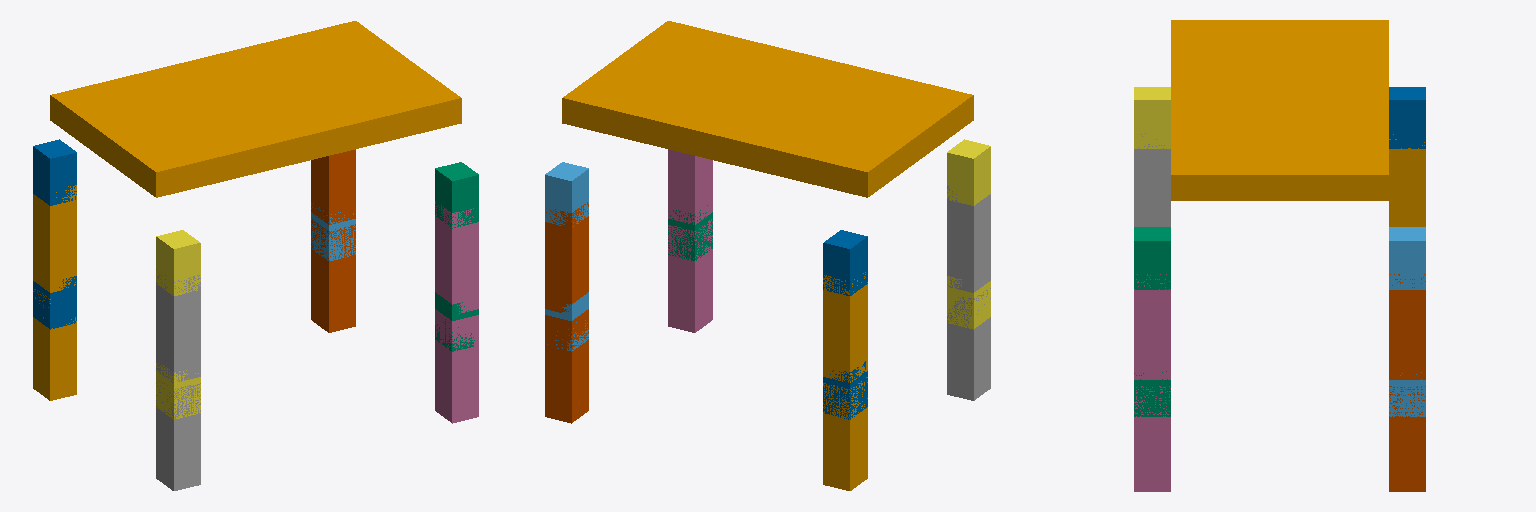
URDF robot description (ker):
<?xml version='1.0'?>
  <robot name="ker">
    <link name="body">
        <inertial>
            <origin xyz="0 0 0.15" rpy="0 0 0"/>
            <mass value="1"/>
            <inertia ixx="1" ixy="0" ixz="0" iyy="1" iyz="0" izz="1" />
        </inertial>

        <collision>
          <origin xyz="0 0 0.15" rpy="0 0 0"/>
          <geometry>
            <box size="0.25 0.15 0.02"/>
          </geometry>
        </collision>

        <visual>
          <origin xyz="0 0 0.15" rpy="0 0 0"/>
          <geometry>
            <box size = "0.25 0.15 0.02"/>
          </geometry>
        </visual>
    </link>

    <link name="motor_1">
        <inertial>
            <origin xyz="0 0 -0.0085" rpy="0 0 0"/>
            <mass value="1"/>
            <inertia ixx="1" ixy="0" ixz="0" iyy="1" iyz="0" izz="1" />
        </inertial>

        <collision>
          <origin xyz="0 0 -0.0085" rpy="0 0 0"/>
          <geometry>
            <box size="0.022 0.025 0.037"/>
          </geometry>
        </collision>

        <visual>
          <origin xyz="0 0 -0.0085" rpy="0 0 0"/>
          <geometry>
            <box size = "0.022 0.025 0.037"/>
          </geometry>
        </visual>
    </link>

    <link name="motor_2">
        <inertial>
            <origin xyz="0 0 -0.0085" rpy="0 0 0"/>
            <mass value="1"/>
            <inertia ixx="1" ixy="0" ixz="0" iyy="1" iyz="0" izz="1" />
        </inertial>

        <collision>
          <origin xyz="0 0 -0.0085" rpy="0 0 0"/>
          <geometry>
            <box size="0.022 0.025 0.037"/>
          </geometry>
        </collision>

        <visual>
          <origin xyz="0 0 -0.0085" rpy="0 0 0"/>
          <geometry>
            <box size = "0.022 0.025 0.037"/>
          </geometry>
        </visual>
    </link>

    <link name="motor_3">
        <inertial>
            <origin xyz="-0 0 -0.0085" rpy="0 0 0"/>
            <mass value="1"/>
            <inertia ixx="1" ixy="0" ixz="0" iyy="1" iyz="0" izz="1" />
        </inertial>

        <collision>
          <origin xyz="0 0 -0.0085" rpy="0 0 0"/>
          <geometry>
            <box size="0.022 0.025 0.037"/>
          </geometry>
        </collision>

        <visual>
          <origin xyz="0 0 -0.0085" rpy="0 0 0"/>
          <geometry>
            <box size = "0.022 0.025 0.037"/>
          </geometry>
        </visual>
    </link>

    <link name="motor_4">
        <inertial>
            <origin xyz="0 0 -0.0085" rpy="0 0 0"/>
            <mass value="1"/>
            <inertia ixx="1" ixy="0" ixz="0" iyy="1" iyz="0" izz="1" />
        </inertial>

        <collision>
          <origin xyz="0 0 -0.0085" rpy="0 0 0"/>
          <geometry>
            <box size="0.022 0.025 0.037"/>
          </geometry>
        </collision>

        <visual>
          <origin xyz="0 0 -0.0085" rpy="0 0 0"/>
          <geometry>
            <box size = "0.022 0.025 0.037"/>
          </geometry>
        </visual>
    </link>

    <joint name="motor_joint_1" type="fixed">
        <origin xyz="0.114 0.0875 0.10" rpy="0 0 0"/>
        <parent link="body"/>
        <child link="motor_1"/>
    </joint>

    <joint name="motor_joint_2" type="fixed">
        <origin xyz="0.114 -0.0875 0.10" rpy="0 0 0"/>
        <parent link="body"/>
        <child link="motor_2"/>
    </joint>
    <joint name="motor_joint_3" type="fixed">
        <origin xyz="-0.114 -0.0875 0.10" rpy="0 0 0"/>
        <parent link="body"/>
        <child link="motor_3"/>
    </joint>
    <joint name="motor_joint_4" type="fixed">
        <origin xyz="-0.114 0.0875 0.10" rpy="0 0 0"/>
        <parent link="body"/>
        <child link="motor_4"/>
    </joint>

    <link name="humerus_1">
        <inertial>
            <origin xyz="0 0 -0.1" rpy="0 0 0"/>
            <mass value="1"/>
            <inertia ixx="1" ixy="0" ixz="0" iyy="1" iyz="0" izz="1" />
        </inertial>

        <collision>
          <origin xyz="0 0 -0.1" rpy="0 0 0"/>
          <geometry>
            <box size="0.022 0.025 0.08"/>
          </geometry>
        </collision>

        <visual>
          <origin xyz="0 0 -0.1" rpy="0 0 0"/>
          <geometry>
            <box size = "0.022 0.025 0.08"/>
          </geometry>
        </visual>
    </link>

    <link name="humerus_2">
        <inertial>
            <origin xyz="0 0 -0.1" rpy="0 0 0"/>
            <mass value="1"/>
            <inertia ixx="1" ixy="0" ixz="0" iyy="1" iyz="0" izz="1" />
        </inertial>

        <collision>
          <origin xyz="0 0 -0.1" rpy="0 0 0"/>
          <geometry>
            <box size="0.022 0.025 0.08"/>
          </geometry>
        </collision>

        <visual>
          <origin xyz="0 0 -0.1" rpy="0 0 0"/>
          <geometry>
            <box size = "0.022 0.025 0.08"/>
          </geometry>
        </visual>
    </link>

    <link name="femur_2">
        <inertial>
            <origin xyz="0 0 -0.1" rpy="0 0 0"/>
            <mass value="1"/>
            <inertia ixx="1" ixy="0" ixz="0" iyy="1" iyz="0" izz="1" />
        </inertial>

        <collision>
          <origin xyz="0 0 -0.1" rpy="0 0 0"/>
          <geometry>
            <box size="0.022 0.025 0.08"/>
          </geometry>
        </collision>

        <visual>
          <origin xyz="0 0 -0.1" rpy="0 0 0"/>
          <geometry>
            <box size = "0.022 0.025 0.08"/>
          </geometry>
        </visual>
    </link>

    <link name="femur_1">
        <inertial>
            <origin xyz="0 0 -0.1" rpy="0 0 0"/>
            <mass value="1"/>
            <inertia ixx="1" ixy="0" ixz="0" iyy="1" iyz="0" izz="1" />
        </inertial>

        <collision>
          <origin xyz="0 0 -0.1" rpy="0 0 0"/>
          <geometry>
            <box size="0.022 0.025 0.08"/>
          </geometry>
        </collision>

        <visual>
          <origin xyz="0 0 -0.1" rpy="0 0 0"/>
          <geometry>
            <box size = "0.022 0.025 0.08"/>
          </geometry>
        </visual>
    </link>

    <joint name="humerus_joint_1" type="revolute">
        <origin xyz="0 0 0.045" rpy="0 0 0"/>
        <parent link="motor_1"/>
        <child link="humerus_1"/>
        <axis xyz="0 1 0"/>
        <dynamics damping="0.1" friction="0.1"/>
        <limit effort="3.0" velocity="3.0" lower="0.0" upper="3.14"/>
    </joint>

    <joint name="humerus_joint_2" type="revolute">
        <origin xyz="0 0 0.045" rpy="0 0 0"/>
        <parent link="motor_2"/>
        <child link="humerus_2"/>
        <axis xyz="0 1 0"/>
        <dynamics damping="0.1" friction="0.1"/>
        <limit effort="3.0" velocity="3.0" lower="0.0" upper="3.14"/>
    </joint>

    <joint name="femur_joint_2" type="revolute">
        <origin xyz="0 0 0.045" rpy="0 0 0"/>
        <parent link="motor_3"/>
        <child link="femur_2"/>
        <axis xyz="0 1 0"/>
        <dynamics damping="0.1" friction="0.1"/>
        <limit effort="3.0" velocity="3.0" lower="0.0" upper="3.14"/>
    </joint>

    <joint name="femur_joint_1" type="revolute">
        <origin xyz="0 0 0.045" rpy="0 0 0"/>
        <parent link="motor_4"/>
        <child link="femur_1"/>
        <axis xyz="0 1 0"/>
        <dynamics damping="0.1" friction="0.1"/>
        <limit effort="3.0" velocity="3.0" lower="0.0" upper="3.14"/>
    </joint>

    <link name="motor_1b">
        <inertial>
            <origin xyz="0 0 0" rpy="0 0 0"/>
            <mass value="1"/>
            <inertia ixx="1" ixy="0" ixz="0" iyy="1" iyz="0" izz="1" />
        </inertial>

        <collision>
          <origin xyz="0 0 0" rpy="0 0 0"/>
          <geometry>
            <box size="0.022 0.025 0.037"/>
          </geometry>
        </collision>

        <visual>
          <origin xyz="0 0 0" rpy="0 0 0"/>
          <geometry>
            <box size = "0.022 0.025 0.037"/>
          </geometry>
        </visual>      
    </link>

    <link name="motor_2b">
           <inertial>
            <origin xyz="0 0 0" rpy="0 0 0"/>
            <mass value="1"/>
            <inertia ixx="1" ixy="0" ixz="0" iyy="1" iyz="0" izz="1" />
        </inertial>

        <collision>
          <origin xyz="0 0 0" rpy="0 0 0"/>
          <geometry>
            <box size="0.022 0.025 0.037"/>
          </geometry>
        </collision>

        <visual>
          <origin xyz="0 0 0" rpy="0 0 0"/>
          <geometry>
            <box size = "0.022 0.025 0.037"/>
          </geometry>
        </visual>     
    </link>

    <link name="motor_3b">
        <inertial>
            <origin xyz="0 0 0" rpy="0 0 0"/>
            <mass value="1"/>
            <inertia ixx="1" ixy="0" ixz="0" iyy="1" iyz="0" izz="1" />
        </inertial>

        <collision>
          <origin xyz="0 0 0" rpy="0 0 0"/>
          <geometry>
            <box size="0.022 0.025 0.037"/>
          </geometry>
        </collision>

        <visual>
          <origin xyz="0 0 0" rpy="0 0 0"/>
          <geometry>
            <box size = "0.022 0.025 0.037"/>
          </geometry>
        </visual>     
    </link>

    <link name="motor_4b">
        <inertial>
            <origin xyz="0 0 0" rpy="0 0 0"/>
            <mass value="1"/>
            <inertia ixx="1" ixy="0" ixz="0" iyy="1" iyz="0" izz="1" />
        </inertial>

        <collision>
          <origin xyz="0 0 0" rpy="0 0 0"/>
          <geometry>
            <box size="0.022 0.025 0.037"/>
          </geometry>
        </collision>

        <visual>
          <origin xyz="0 0 0" rpy="0 0 0"/>
          <geometry>
            <box size = "0.022 0.025 0.037"/>
          </geometry>
        </visual>     
    </link>

    <joint name="motor_joint_1b" type="fixed">
        <origin xyz="0 0 -0.15" rpy="0 0 0"/>
        <parent link="humerus_1"/>
        <child link="motor_1b"/>
    </joint>

    <joint name="motor_joint_2b" type="fixed">
        <origin xyz="0 0 -0.15" rpy="0 0 0"/>
        <parent link="humerus_2"/>
        <child link="motor_2b"/>
    </joint>

    <joint name="motor_joint_3b" type="fixed">
        <origin xyz="0 0 -0.15" rpy="0 0 0"/>
        <parent link="femur_2"/>
        <child link="motor_3b"/>
    </joint>

    <joint name="motor_joint_4b" type="fixed">
        <origin xyz="0 0 -0.15" rpy="0 0 0"/>
        <parent link="femur_1"/>
        <child link="motor_4b"/>
    </joint>

    <link name="radius_1">
        <inertial>
            <origin xyz="0 0 0" rpy="0 0 0"/>
            <mass value="1"/>
            <inertia ixx="1" ixy="0" ixz="0" iyy="1" iyz="0" izz="1" />
        </inertial>

        <collision>
          <origin xyz="0 0 0" rpy="0 0 0"/>
          <geometry>
            <box size="0.022 0.025 0.08"/>
          </geometry>
        </collision>

        <visual>
          <origin xyz="0 0 0" rpy="0 0 0"/>
          <geometry>
            <box size = "0.022 0.025 0.08"/>
          </geometry>
        </visual>  
    </link>

    <link name="radius_2">
       <inertial>
            <origin xyz="0 0 0" rpy="0 0 0"/>
            <mass value="1"/>
            <inertia ixx="1" ixy="0" ixz="0" iyy="1" iyz="0" izz="1" />
        </inertial>

        <collision>
          <origin xyz="0 0 0" rpy="0 0 0"/>
          <geometry>
            <box size="0.022 0.025 0.08"/>
          </geometry>
        </collision>

        <visual>
          <origin xyz="0 0 0" rpy="0 0 0"/>
          <geometry>
            <box size = "0.022 0.025 0.08"/>
          </geometry>
        </visual>  
    </link>

    <link name="tibula_2">
       <inertial>
            <origin xyz="0 0 0" rpy="0 0 0"/>
            <mass value="1"/>
            <inertia ixx="1" ixy="0" ixz="0" iyy="1" iyz="0" izz="1" />
        </inertial>

        <collision>
          <origin xyz="0 0 0" rpy="0 0 0"/>
          <geometry>
            <box size="0.022 0.025 0.08"/>
          </geometry>
        </collision>

        <visual>
          <origin xyz="0 0 0" rpy="0 0 0"/>
          <geometry>
            <box size = "0.022 0.025 0.08"/>
          </geometry>
        </visual>  
    </link>

    <link name="tibula_1">
       <inertial>
            <origin xyz="0 0 0" rpy="0 0 0"/>
            <mass value="1"/>
            <inertia ixx="1" ixy="0" ixz="0" iyy="1" iyz="0" izz="1" />
        </inertial>

        <collision>
          <origin xyz="0 0 0" rpy="0 0 0"/>
          <geometry>
            <box size="0.022 0.025 0.08"/>
          </geometry>
        </collision>

        <visual>
          <origin xyz="0 0 0" rpy="0 0 0"/>
          <geometry>
            <box size = "0.022 0.025 0.08"/>
          </geometry>
        </visual>  
    </link>

    <joint name="radius_joint_1" type="revolute">
        <origin xyz="0 0 -.0345" rpy="0 0 0"/>
        <parent link="motor_1b"/>
        <child link="radius_1"/>
        <axis xyz="0 1 0"/>
        <dynamics damping="0.1" friction="0.1"/>
        <limit effort="10.0" velocity="3.0" lower="0.0" upper="3.14"/>
    </joint>

    <joint name="radius_joint_2" type="revolute">
        <origin xyz="0 0 -.0345" rpy="0 0 0"/>
        <parent link="motor_2b"/>
        <child link="radius_2"/>
        <axis xyz="0 1 0"/>
        <dynamics damping="0.1" friction="0.1"/>
        <limit effort="10.0" velocity="3.0" lower="0.0" upper="3.14"/>
    </joint>

    <joint name="tibula_joint_2" type="revolute">
        <origin xyz="0 0 -.0345" rpy="0 0 0"/>
        <parent link="motor_3b"/>
        <child link="tibula_2"/>
        <axis xyz="0 1 0"/>
        <dynamics damping="0.1" friction="0.1"/>
        <limit effort="10.0" velocity="3.0" lower="0.0" upper="3.14"/>
    </joint>

    <joint name="tibula_joint_1" type="revolute">
        <origin xyz="0 0 -.0345" rpy="0 0 0"/>
        <parent link="motor_4b"/>
        <child link="tibula_1"/>
        <axis xyz="0 1 0"/>
        <dynamics damping="0.1" friction="0.1"/>
        <limit effort="10.0" velocity="3.0" lower="0.0" upper="3.14"/>
    </joint>
  </robot>

--- What the picture shows (computed from the rendered views, not written in the file) ---
3 views of the same robot in one strip: view 1: azimuth 30°, elevation 25°; view 2: azimuth 150°, elevation 25°; view 3: azimuth 270°, elevation 25° (orthographic).
Robot: ker — 17 links, 16 joints (8 revolute, 8 fixed); root link body; default pose: every joint at zero.
Links seen in each view (by area): view 1: body, radius_2, femur_2, humerus_2, femur_1, radius_1, tibula_2, tibula_1, humerus_1, motor_4, motor_3, motor_2 (+4 smaller); view 2: body, radius_1, femur_1, humerus_1, radius_2, femur_2, tibula_1, tibula_2, humerus_2, motor_3, motor_4, motor_1 (+4 smaller); view 3: body, humerus_2, humerus_1, radius_1, radius_2, femur_2, femur_1, motor_1, motor_2, motor_4, motor_3, motor_2b (+1 smaller).
Link boxes in pixels (box(x1,y1,x2,y2)): body: box(50, 21, 461, 197); radius_2: box(435, 309, 478, 423); femur_2: box(156, 269, 200, 382); humerus_2: box(435, 201, 478, 313); femur_1: box(33, 185, 76, 292); radius_1: box(311, 219, 355, 332); tibula_2: box(156, 381, 200, 490); tibula_1: box(33, 289, 76, 400); humerus_1: box(311, 149, 355, 224); motor_4: box(33, 139, 76, 205); motor_3: box(156, 230, 200, 295); motor_2: box(435, 162, 478, 228); body: box(562, 21, 973, 197); radius_1: box(545, 309, 588, 423); femur_1: box(823, 272, 867, 382); humerus_1: box(545, 202, 588, 312); radius_2: box(668, 219, 712, 332); femur_2: box(947, 186, 990, 292); tibula_1: box(823, 377, 867, 490); tibula_2: box(947, 288, 990, 400); humerus_2: box(668, 149, 712, 224); motor_3: box(947, 139, 990, 205); motor_4: box(823, 230, 867, 295); motor_1: box(545, 162, 588, 226); body: box(1171, 20, 1388, 200); humerus_2: box(1134, 274, 1170, 379); humerus_1: box(1389, 274, 1425, 379); radius_1: box(1389, 386, 1425, 491); radius_2: box(1134, 386, 1170, 491); femur_2: box(1134, 133, 1170, 226); femur_1: box(1389, 134, 1425, 226); motor_1: box(1389, 227, 1425, 289); motor_2: box(1134, 227, 1170, 289); motor_4: box(1389, 87, 1425, 148); motor_3: box(1134, 87, 1170, 148); motor_2b: box(1134, 371, 1170, 416).
Size in the robot's own frame: 0.25 by 0.2 by 0.2395 metres.
Geometry: primitives only (box / cylinder / sphere), no mesh files.